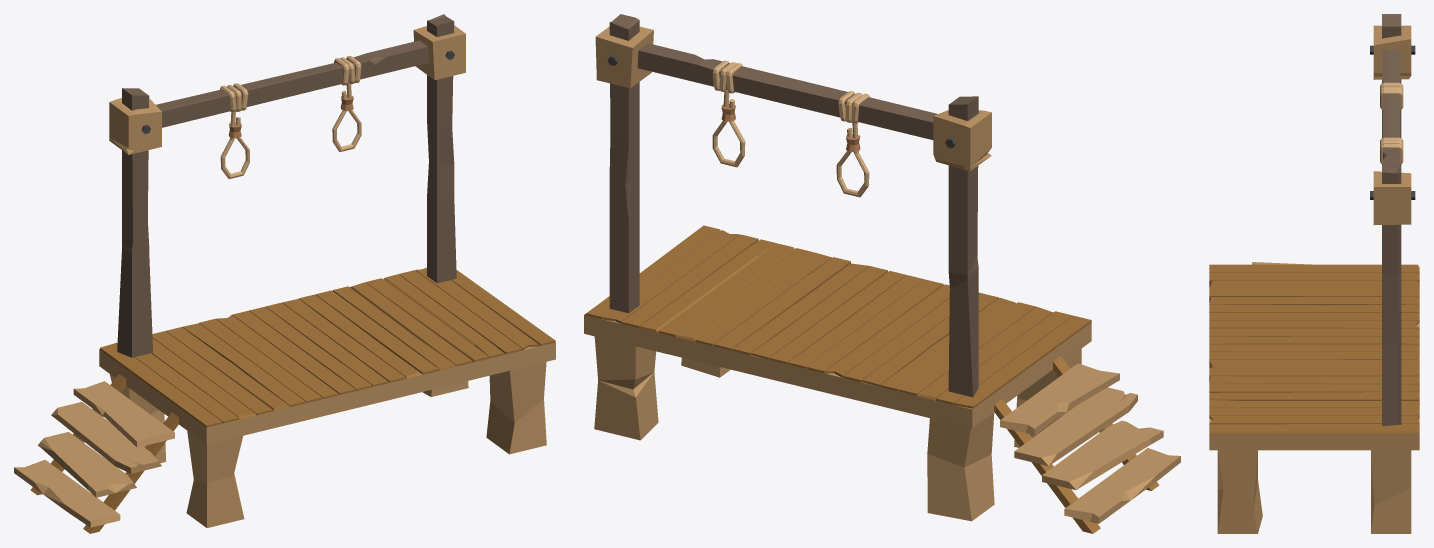
The model's file is Gallows.fbx.
3 renders of one model, left to right at view 1: azimuth 30°, elevation 25°; view 2: azimuth 150°, elevation 25°; view 3: azimuth 270°, elevation 25°, orthographic. The views are drawn at different scales.
Parts seen in each view (by area): view 1: Gallows; view 2: Gallows; view 3: Gallows.
Part boxes in pixels (x1,y1,x2,y2): Gallows: (14,14,555,533); Gallows: (584,14,1180,533); Gallows: (1209,14,1419,533).
Size of the model in its own units: 685 by 284 by 538.
